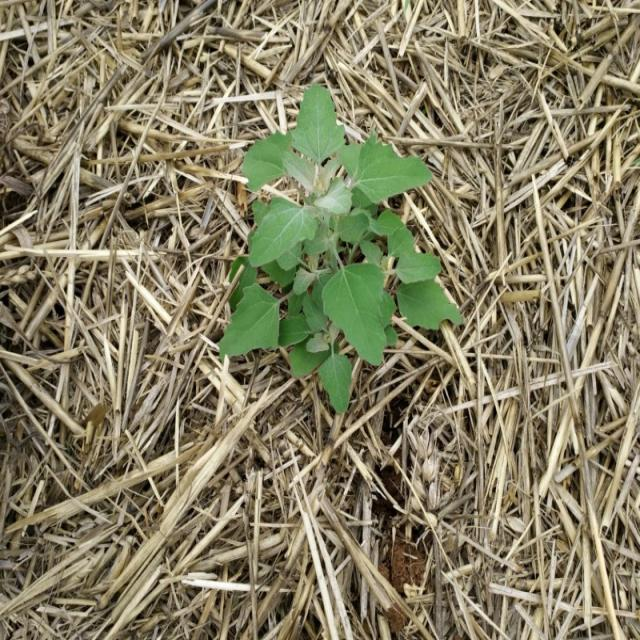ca: (220, 86, 443, 410)
